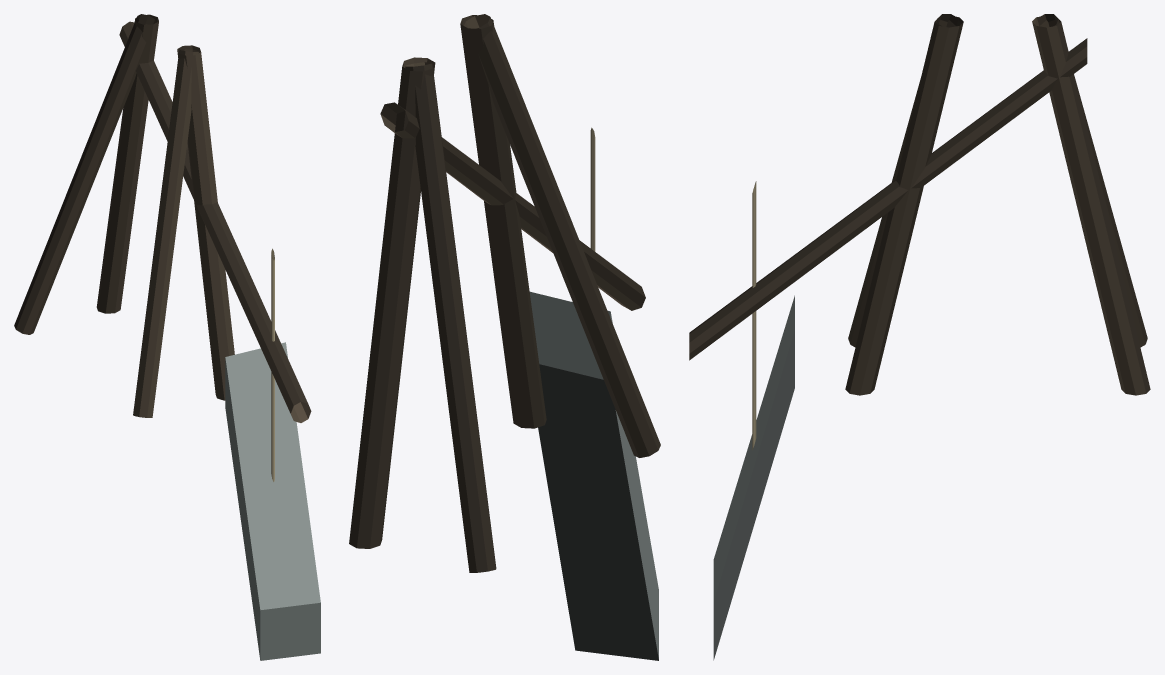
3 renders of one model, left to right at view 1: azimuth 30°, elevation 25°; view 2: azimuth 150°, elevation 25°; view 3: azimuth 270°, elevation 25°, orthographic. The views are drawn at different scales.
Visible parts, largest first — view 1: fe8261f125e74729bc4a635fb4049785edba4d3779c5d74961e1098dd8b5; view 2: fe8261f125e74729bc4a635fb4049785edba4d3779c5d74961e1098dd8b5; view 3: fe8261f125e74729bc4a635fb4049785edba4d3779c5d74961e1098dd8b5.
Boxes of the visible parts, <box> form: fe8261f125e74729bc4a635fb4049785edba4d3779c5d74961e1098dd8b5: <box>14,14,320,660</box>; fe8261f125e74729bc4a635fb4049785edba4d3779c5d74961e1098dd8b5: <box>349,14,660,660</box>; fe8261f125e74729bc4a635fb4049785edba4d3779c5d74961e1098dd8b5: <box>689,14,1150,660</box>.
Bounding box in the file's own units: 2.04 × 8.5 × 5.68.
Materials: 3 (1 with a texture image).
